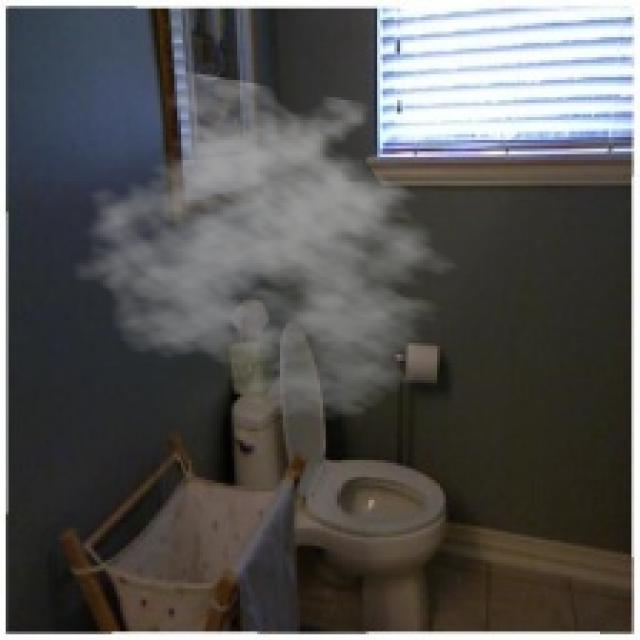Smoke: (69, 68, 478, 423)
